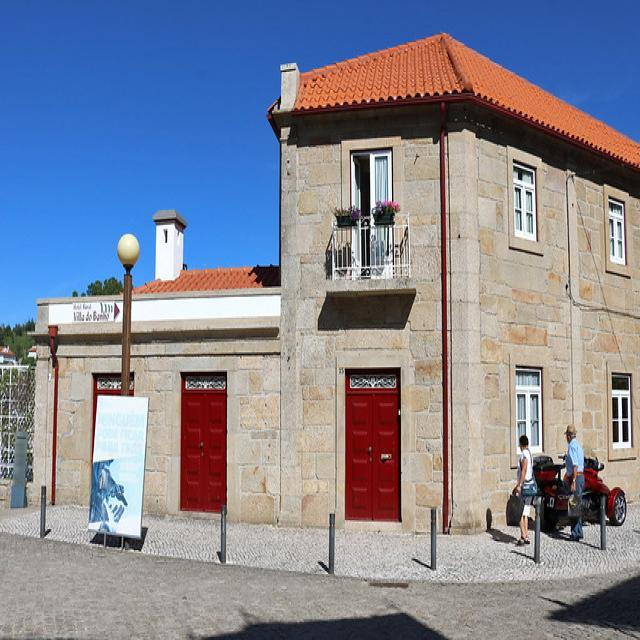building: (29, 28, 638, 540)
